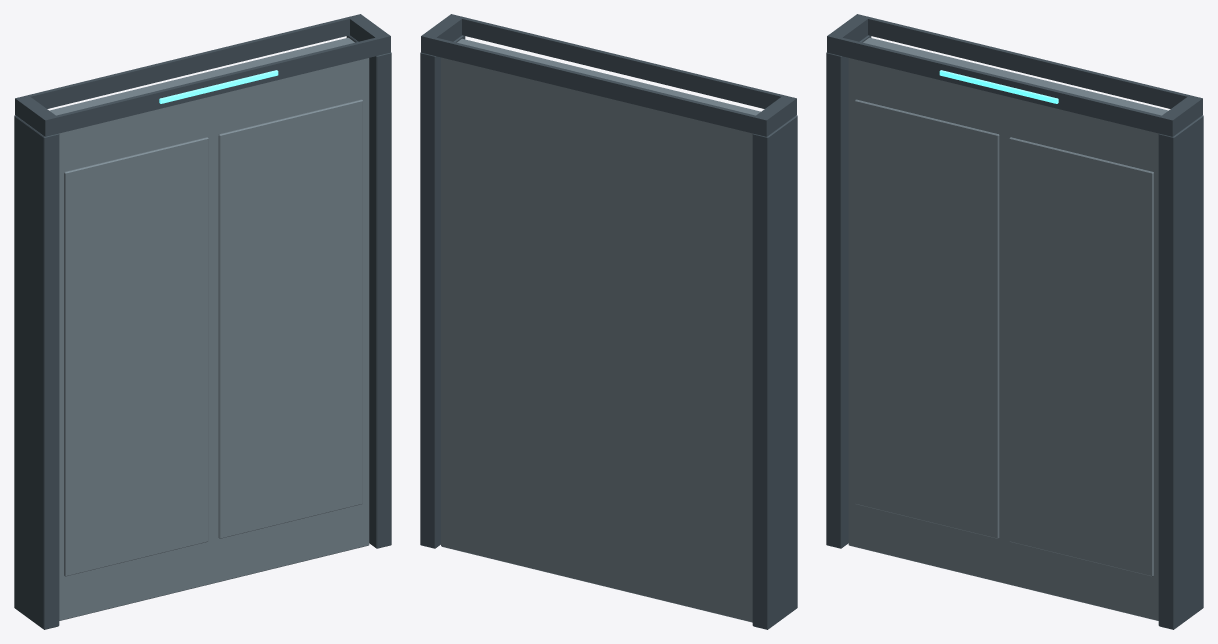
The model's file is door.glb.
3 renders of one model, left to right at view 1: azimuth 30°, elevation 25°; view 2: azimuth 150°, elevation 25°; view 3: azimuth 330°, elevation 25°, orthographic.
Visible parts, largest first — view 1: Door_Panel, Door_FrameMesh, Door_Light; view 2: Door_Panel, Door_FrameMesh; view 3: Door_Panel, Door_FrameMesh, Door_Light.
Boxes of the visible parts, <box> form: Door_Panel: <box>49,37,369,620</box>; Door_FrameMesh: <box>14,14,391,629</box>; Door_Light: <box>159,70,278,103</box>; Door_Panel: <box>441,38,760,622</box>; Door_FrameMesh: <box>420,14,797,629</box>; Door_Panel: <box>848,37,1168,620</box>; Door_FrameMesh: <box>826,14,1203,629</box>; Door_Light: <box>939,70,1058,103</box>.
Size of the model in its own units: 2.66 by 3.72 by 0.42.
